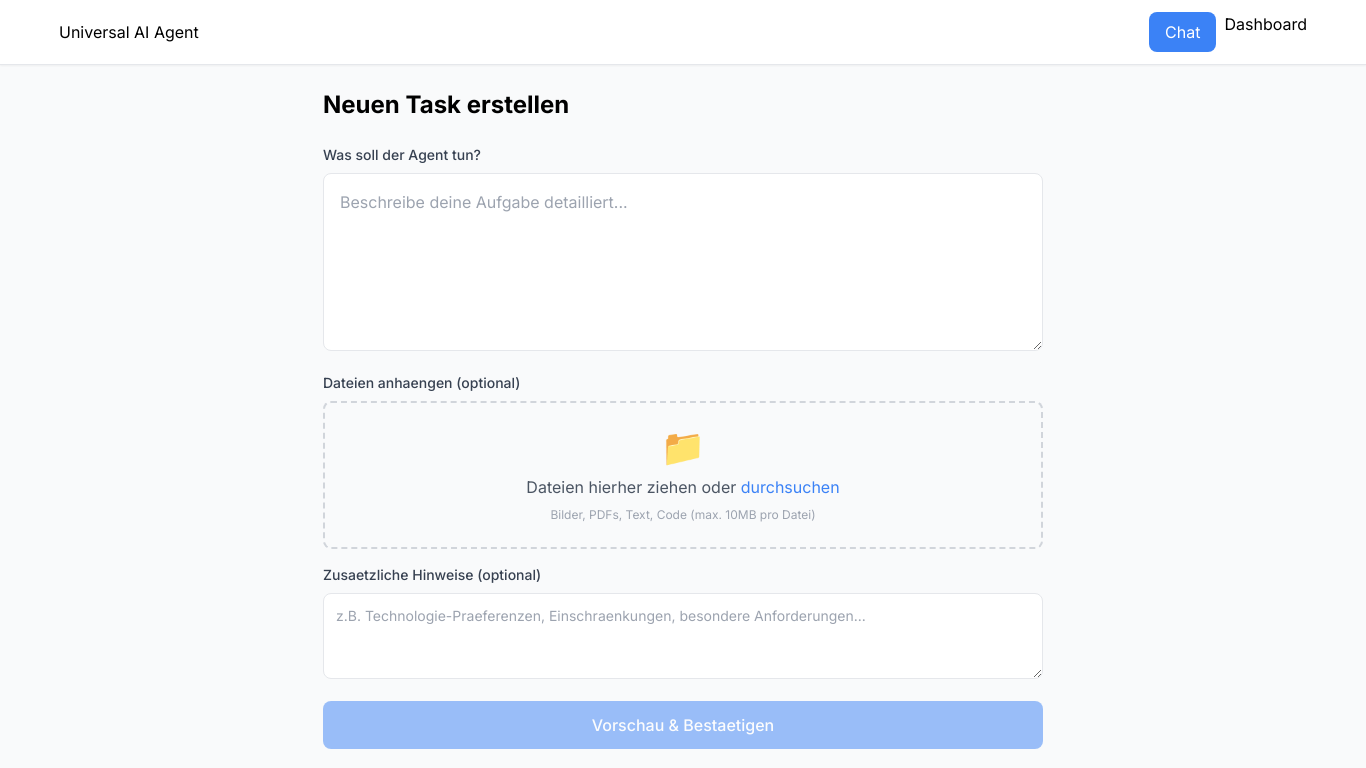
Test: Chat Page › should enable submit button when message is entered
The image size is (1366, 768).
In the text box with placeholder "Beschreibe deine Aufgabe detailliert...": (683, 262) [323,173,1043,351], type "Erstelle eine React Komponente"
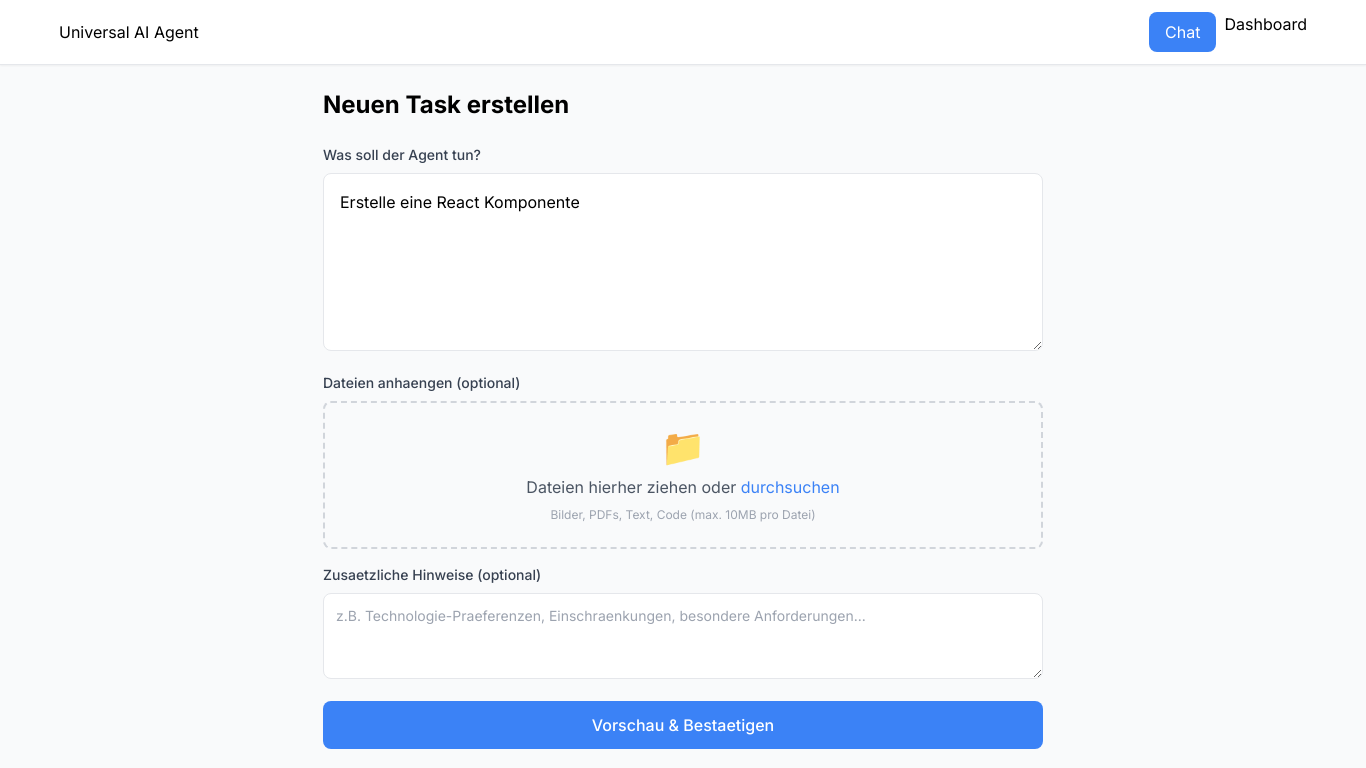
Expected: the button "Vorschau & Bestaetigen" is enabled, [323,701,1043,749]
